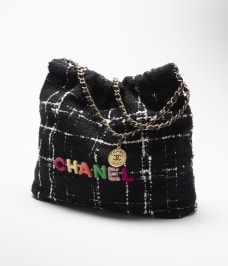channel: (36, 54, 207, 221), (42, 131, 141, 192), (102, 100, 185, 131), (105, 143, 128, 171)
